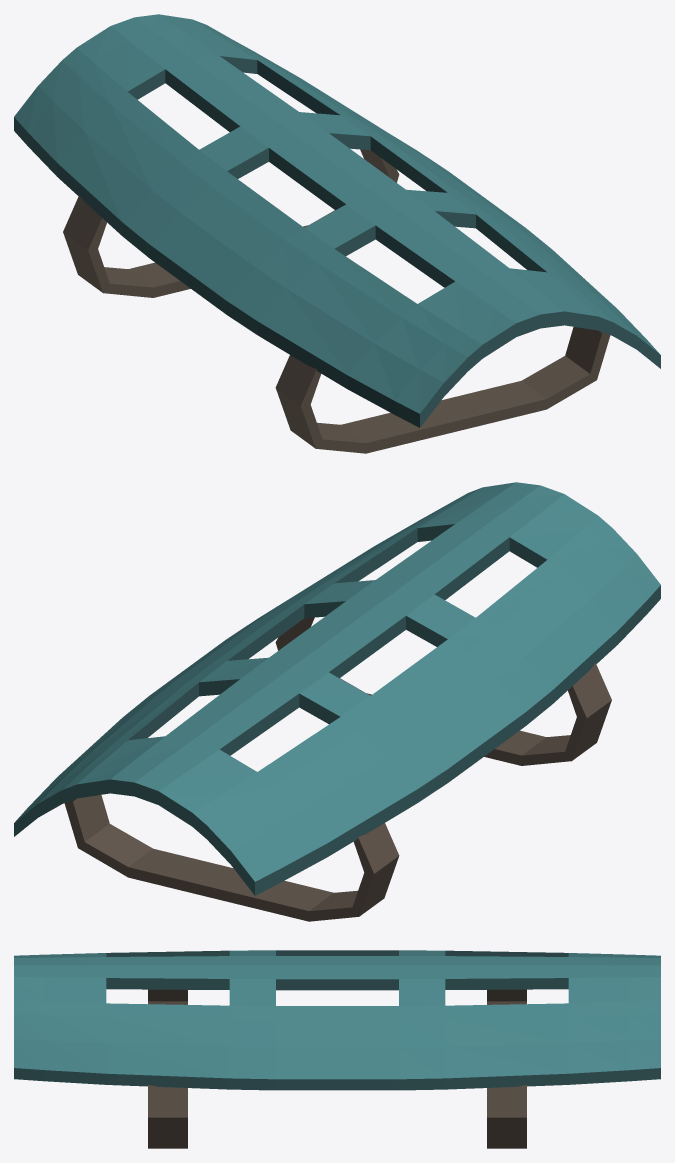
The picture shows the model from 3 angles, top to bottom: view 1: azimuth 30°, elevation 25°; view 2: azimuth 150°, elevation 25°; view 3: azimuth 270°, elevation 25°; orthographic projection. The views are drawn at different scales.
Visible parts, largest first — view 1: WholeSixVentCurvedForearmShield, WholeFrontReturnedBackBand, WholeRearReturnedBackBand; view 2: WholeSixVentCurvedForearmShield, WholeRearReturnedBackBand, WholeFrontReturnedBackBand; view 3: WholeSixVentCurvedForearmShield, WholeFrontReturnedBackBand, WholeRearReturnedBackBand.
Boxes of the visible parts, left/top/right/bottom form: WholeSixVentCurvedForearmShield: left=14, top=14, right=660, bottom=427; WholeFrontReturnedBackBand: left=275, top=327, right=610, bottom=453; WholeRearReturnedBackBand: left=63, top=149, right=399, bottom=297; WholeSixVentCurvedForearmShield: left=14, top=482, right=660, bottom=895; WholeRearReturnedBackBand: left=64, top=795, right=399, bottom=921; WholeFrontReturnedBackBand: left=275, top=617, right=611, bottom=765; WholeSixVentCurvedForearmShield: left=14, top=950, right=660, bottom=1090; WholeFrontReturnedBackBand: left=148, top=989, right=187, bottom=1148; WholeRearReturnedBackBand: left=487, top=989, right=526, bottom=1148.
Bounding box in the file's own units: 0.093 × 0.051 × 0.21.
